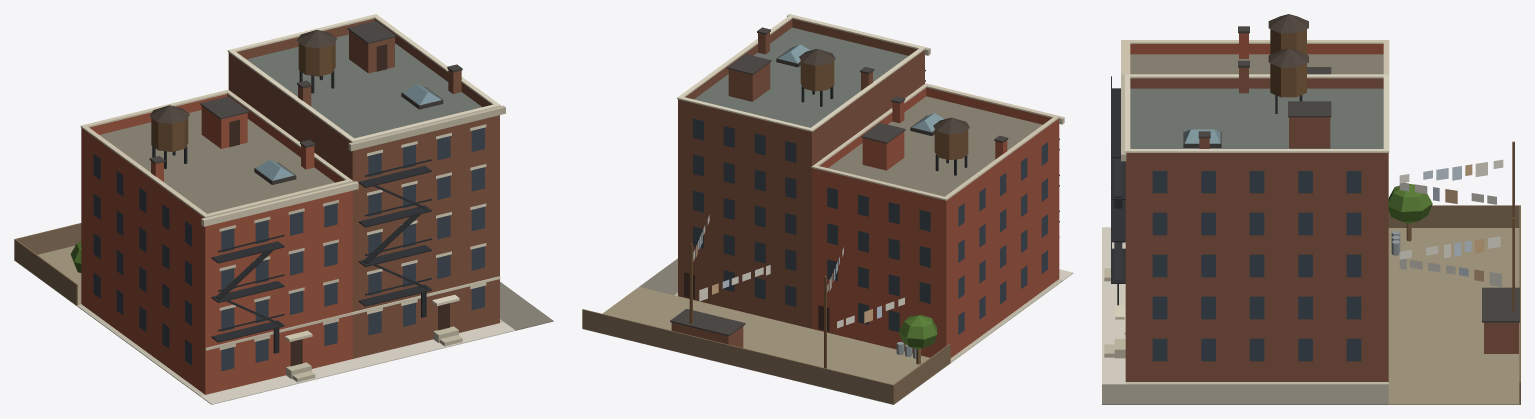
Rendered from apartments.glb.
The picture shows the model from 3 angles, left to right: view 1: azimuth 30°, elevation 25°; view 2: azimuth 150°, elevation 25°; view 3: azimuth 270°, elevation 25°; orthographic projection. The views are drawn at different scales.
Parts seen in each view (by area): view 1: apartments; view 2: apartments; view 3: apartments.
Part boxes in pixels (bbox=[...]): apartments: bbox=[14, 14, 553, 404]; apartments: bbox=[582, 14, 1073, 404]; apartments: bbox=[1102, 14, 1520, 404].
Size of the model in its own units: 30 by 22.12 by 30.
